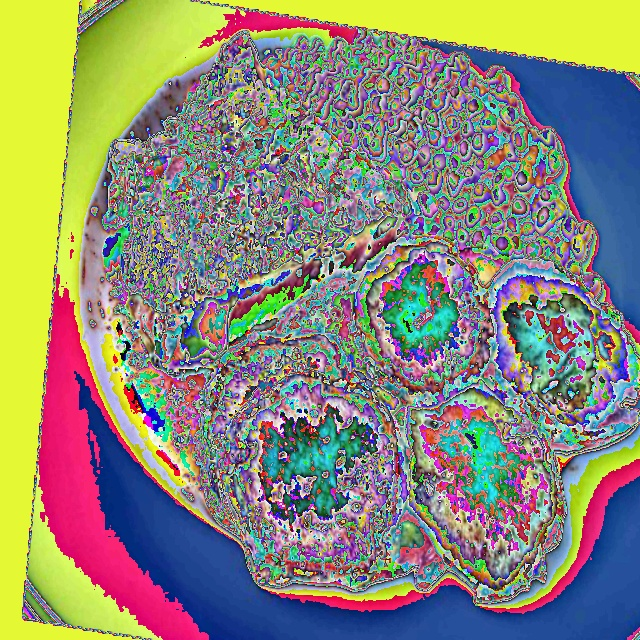background: (103, 29, 639, 603)
